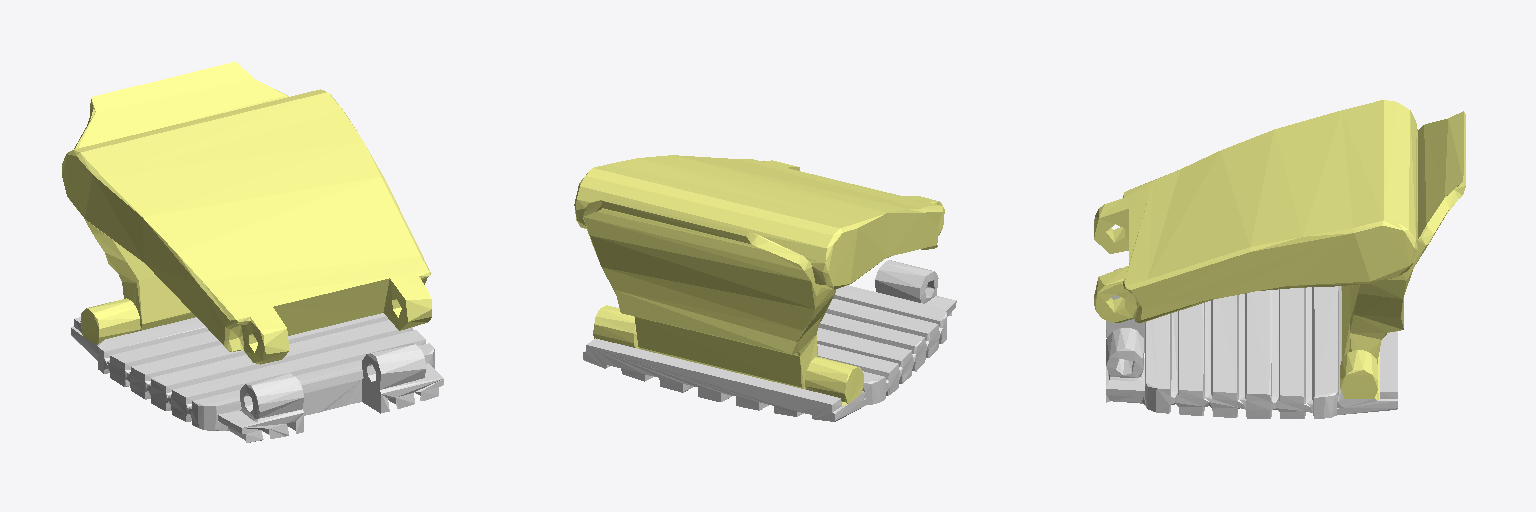
The picture shows the model from 3 angles: view 1: azimuth 30°, elevation 25°; view 2: azimuth 150°, elevation 25°; view 3: azimuth 270°, elevation 25°; orthographic projection.
Visible parts, largest first — view 1: link_finger_base_simplified1:Mesh; view 2: link_finger_base_simplified1:Mesh; view 3: link_finger_base_simplified1:Mesh.
Boxes of the visible parts, x1=… form: link_finger_base_simplified1:Mesh: x1=62, y1=62, x2=443, y2=442; link_finger_base_simplified1:Mesh: x1=574, y1=155, x2=956, y2=421; link_finger_base_simplified1:Mesh: x1=1094, y1=100, x2=1465, y2=418.
Size of the model in its own units: 0.0479 by 0.0373 by 0.0574.
Materials: 1 (1 with a texture image).